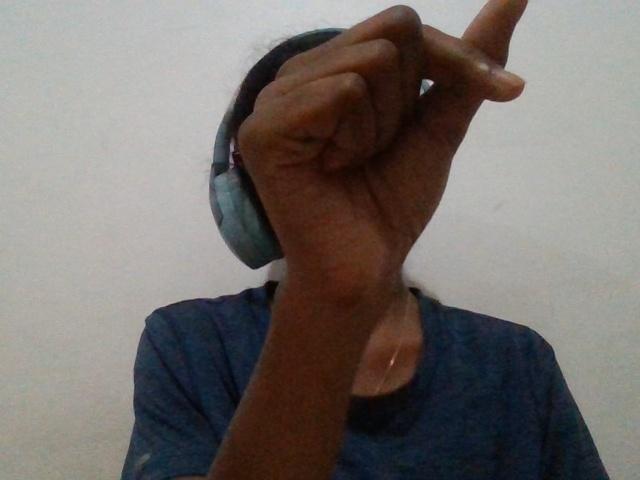G: (196, 1, 548, 357)
